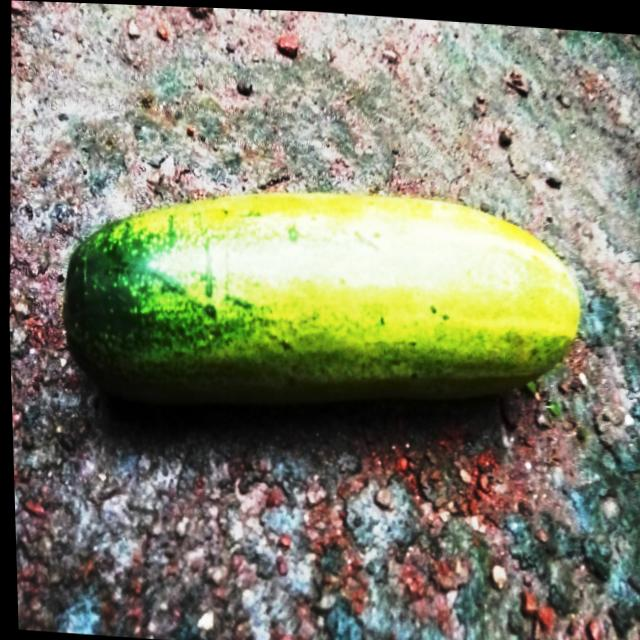Fresh-Cucumber: (53, 162, 589, 432)
